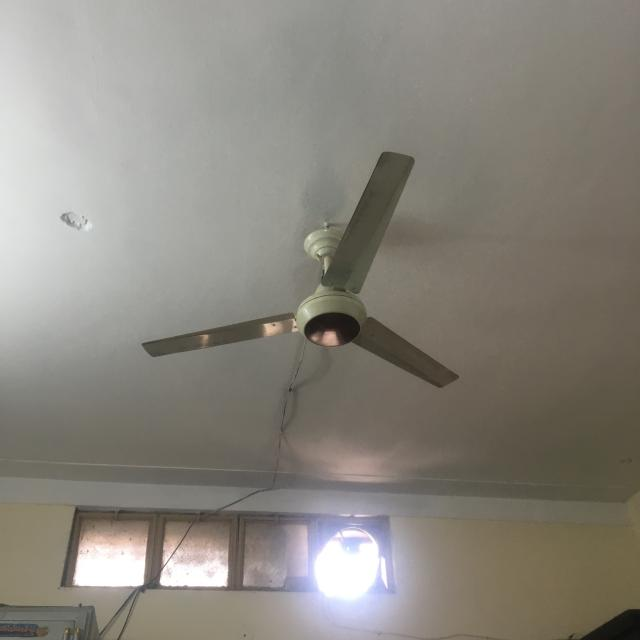off: (129, 146, 468, 396)
